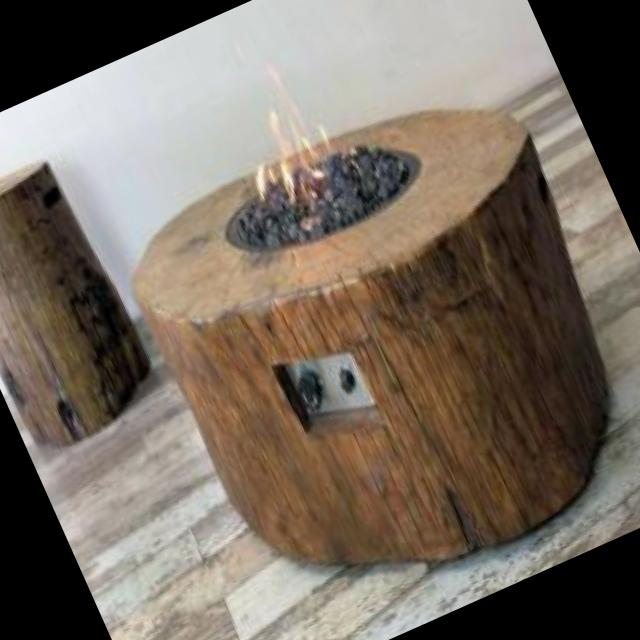fire: (212, 65, 368, 226)
